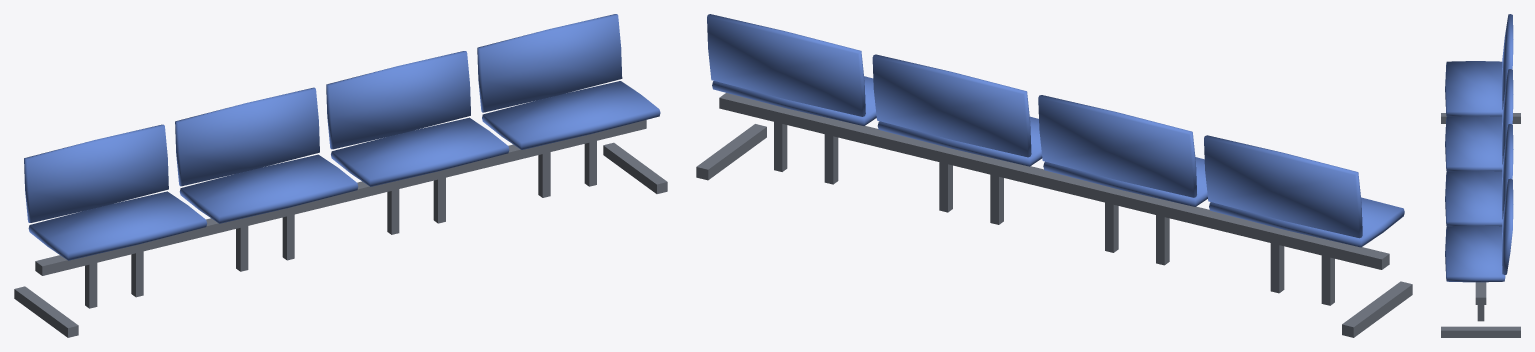
The model's file is waiting_chairs.glb.
The picture shows the model from 3 angles, left to right: view 1: azimuth 30°, elevation 25°; view 2: azimuth 150°, elevation 25°; view 3: azimuth 270°, elevation 25°; orthographic projection. The views are drawn at different scales.
Visible parts, largest first — view 1: root; view 2: root; view 3: root.
Part boxes in pixels (box(x1,y1,x2,y2)): root: box(14, 14, 667, 337); root: box(696, 14, 1412, 337); root: box(1441, 14, 1520, 337).
Bounding box in the file's own units: 3.9 × 0.8986 × 0.6.
